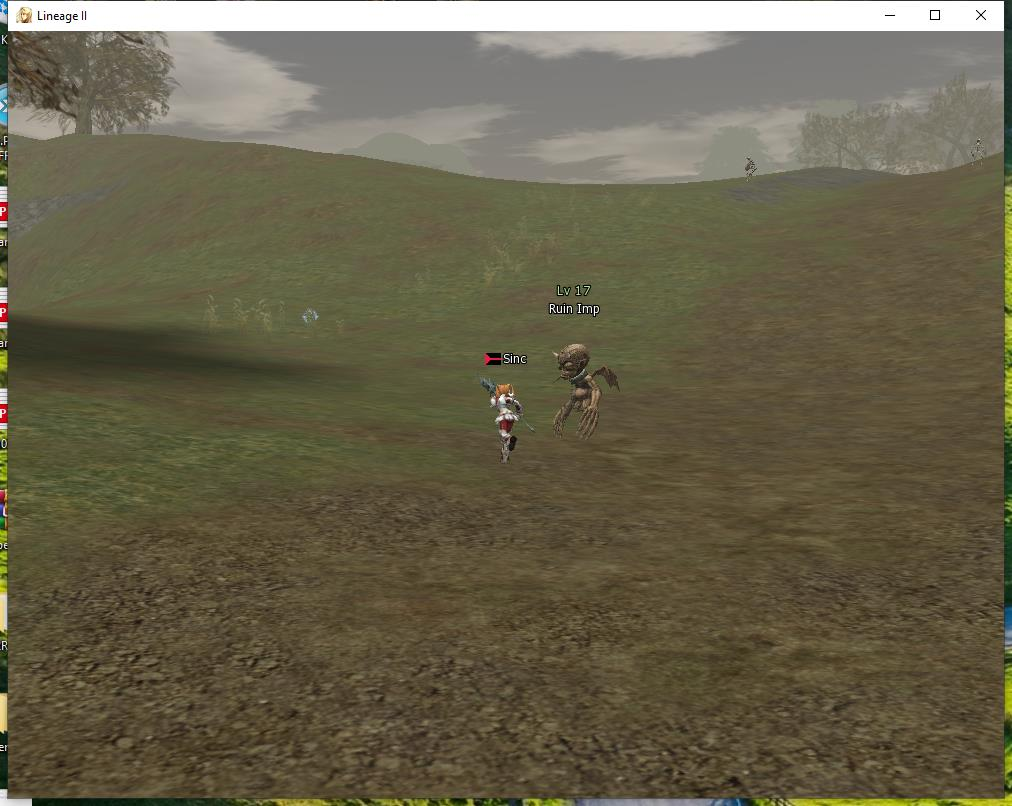monster: (540, 276, 625, 440)
